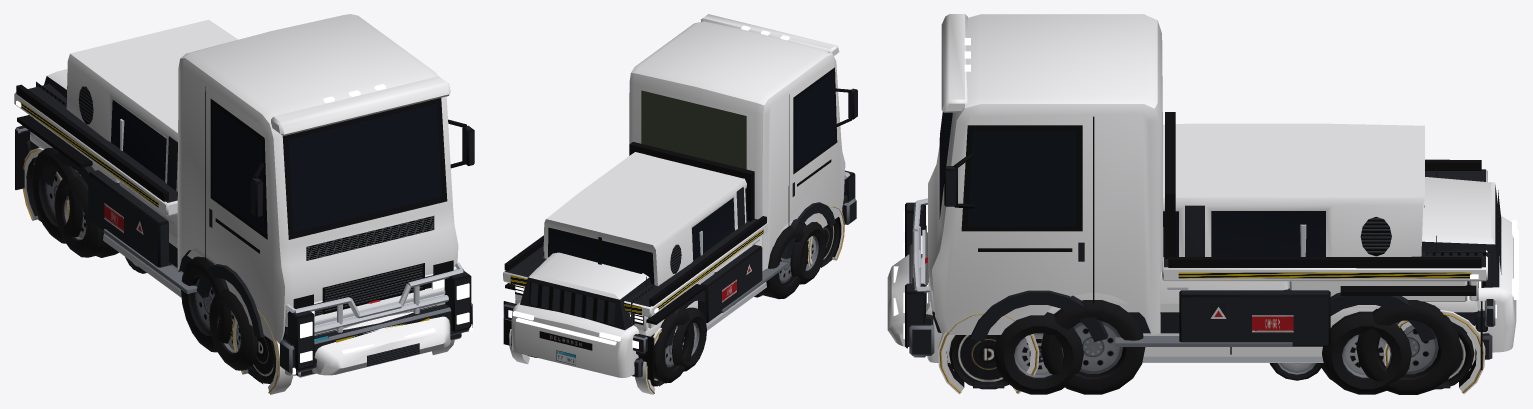
File: traffic.glb
3 renders of one model, left to right at view 1: azimuth 30°, elevation 25°; view 2: azimuth 150°, elevation 25°; view 3: azimuth 270°, elevation 25°, orthographic. The views are drawn at different scales.
Visible parts, largest first — view 1: tr_zeya, tr_supron, tr_colby, tr_delamain, tr_cortes; view 2: tr_zeya, tr_supron, tr_delamain, tr_colby, tr_cortes; view 3: tr_zeya, tr_supron, tr_colby, tr_delamain, tr_cortes, tr_maimai.
Part boxes in pixels (left/top/right/bottom): tr_zeya: left=14, top=14, right=474, bottom=374; tr_supron: left=66, top=19, right=238, bottom=257; tr_colby: left=26, top=119, right=464, bottom=370; tr_delamain: left=22, top=69, right=454, bottom=394; tr_cortes: left=33, top=86, right=461, bottom=377; tr_zeya: left=503, top=14, right=857, bottom=383; tr_supron: left=543, top=152, right=747, bottom=285; tr_delamain: left=509, top=206, right=844, bottom=394; tr_colby: left=510, top=172, right=849, bottom=371; tr_cortes: left=511, top=209, right=844, bottom=377; tr_zeya: left=903, top=14, right=1496, bottom=394; tr_supron: left=1163, top=123, right=1424, bottom=379; tr_colby: left=912, top=198, right=1487, bottom=394; tr_delamain: left=887, top=177, right=1518, bottom=394; tr_cortes: left=913, top=167, right=1492, bottom=362; tr_maimai: left=1269, top=363, right=1321, bottom=380.
Size of the model in its own units: 2.57 by 3.12 by 6.06.
Materials: 4 (1 with a texture image).
